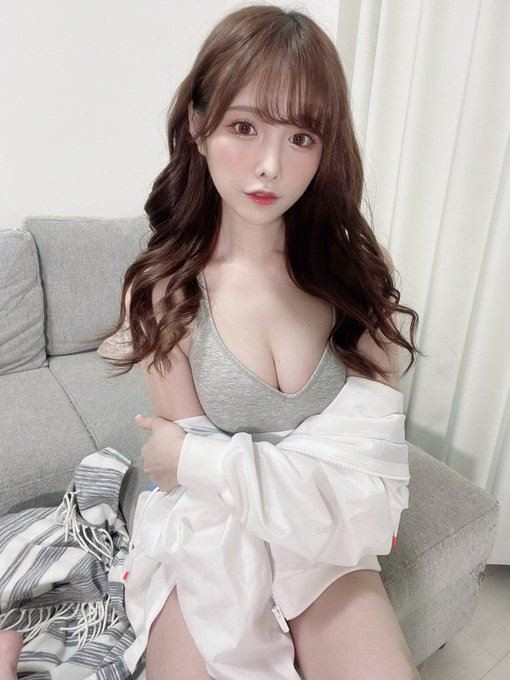people: (145, 6, 400, 680)
